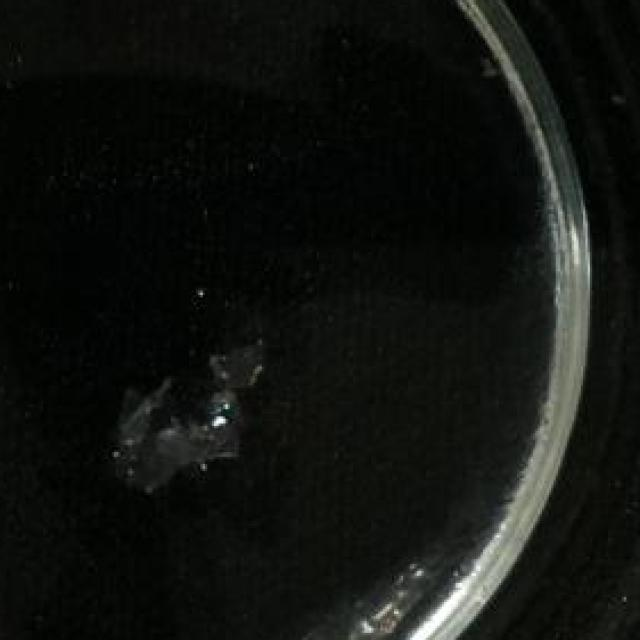Microplastic: (105, 316, 269, 514)
